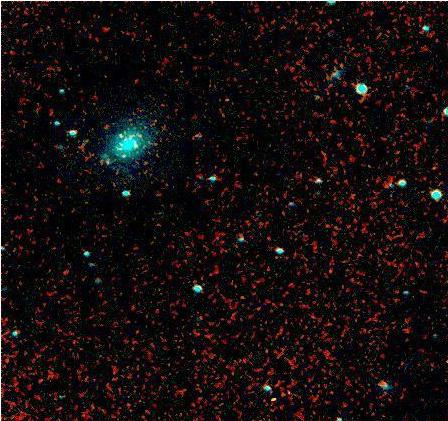star: (107, 121, 137, 151)
